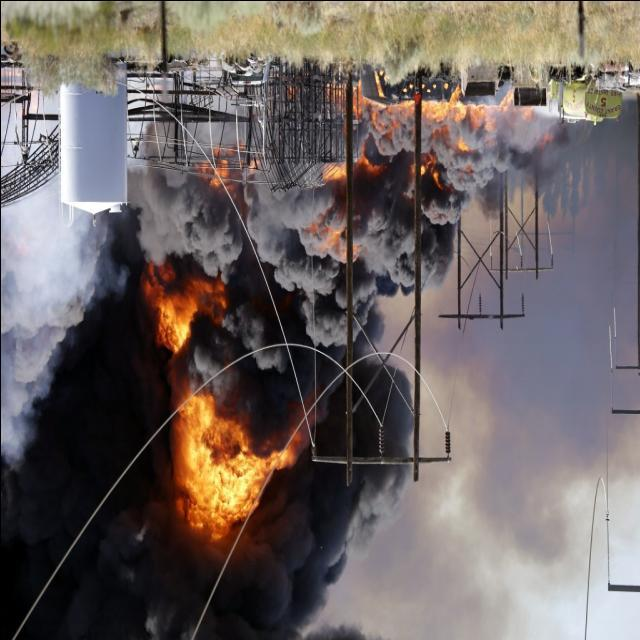Fire: (132, 240, 290, 530), (302, 46, 516, 208)
